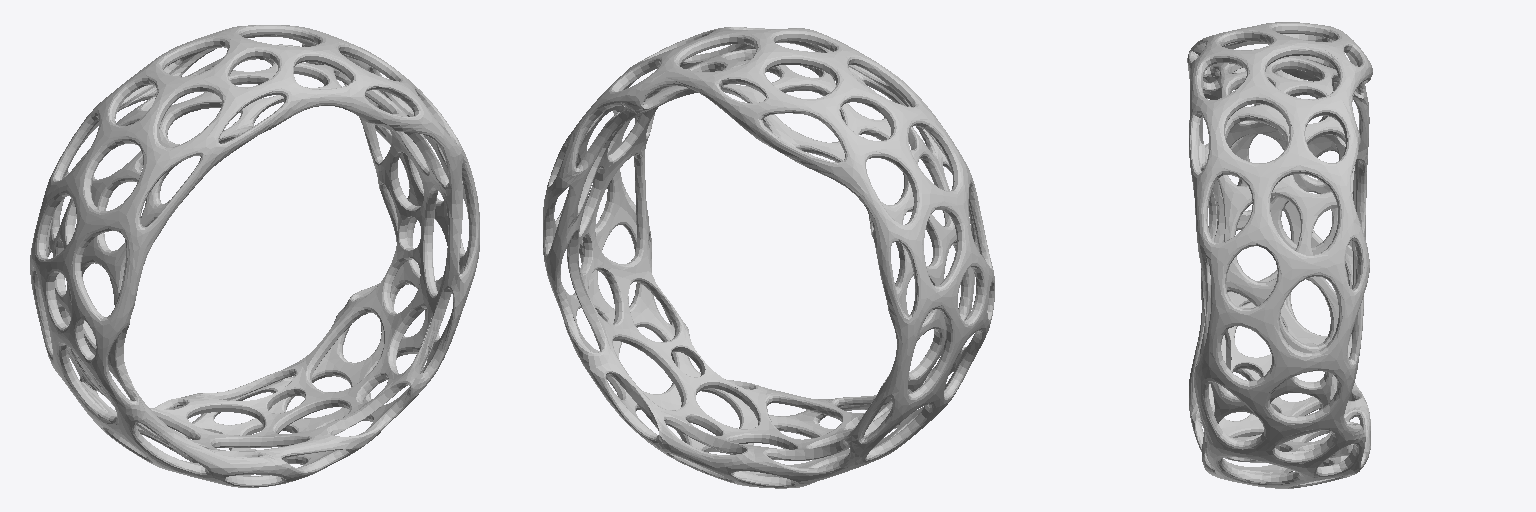
The model's file is bracelet.obj.
3 views of the same model, side by side, from view 1: azimuth 30°, elevation 25°; view 2: azimuth 150°, elevation 25°; view 3: azimuth 270°, elevation 25° (orthographic).
Visible parts, largest first — view 1: Bracelet; view 2: Bracelet; view 3: Bracelet.
Part boxes in pixels (left/top/right/bottom): Bracelet: left=30, top=25, right=479, bottom=487; Bracelet: left=543, top=27, right=994, bottom=488; Bracelet: left=1187, top=22, right=1372, bottom=488.
Bounding box in the file's own units: 31.02 × 31.15 × 12.38.